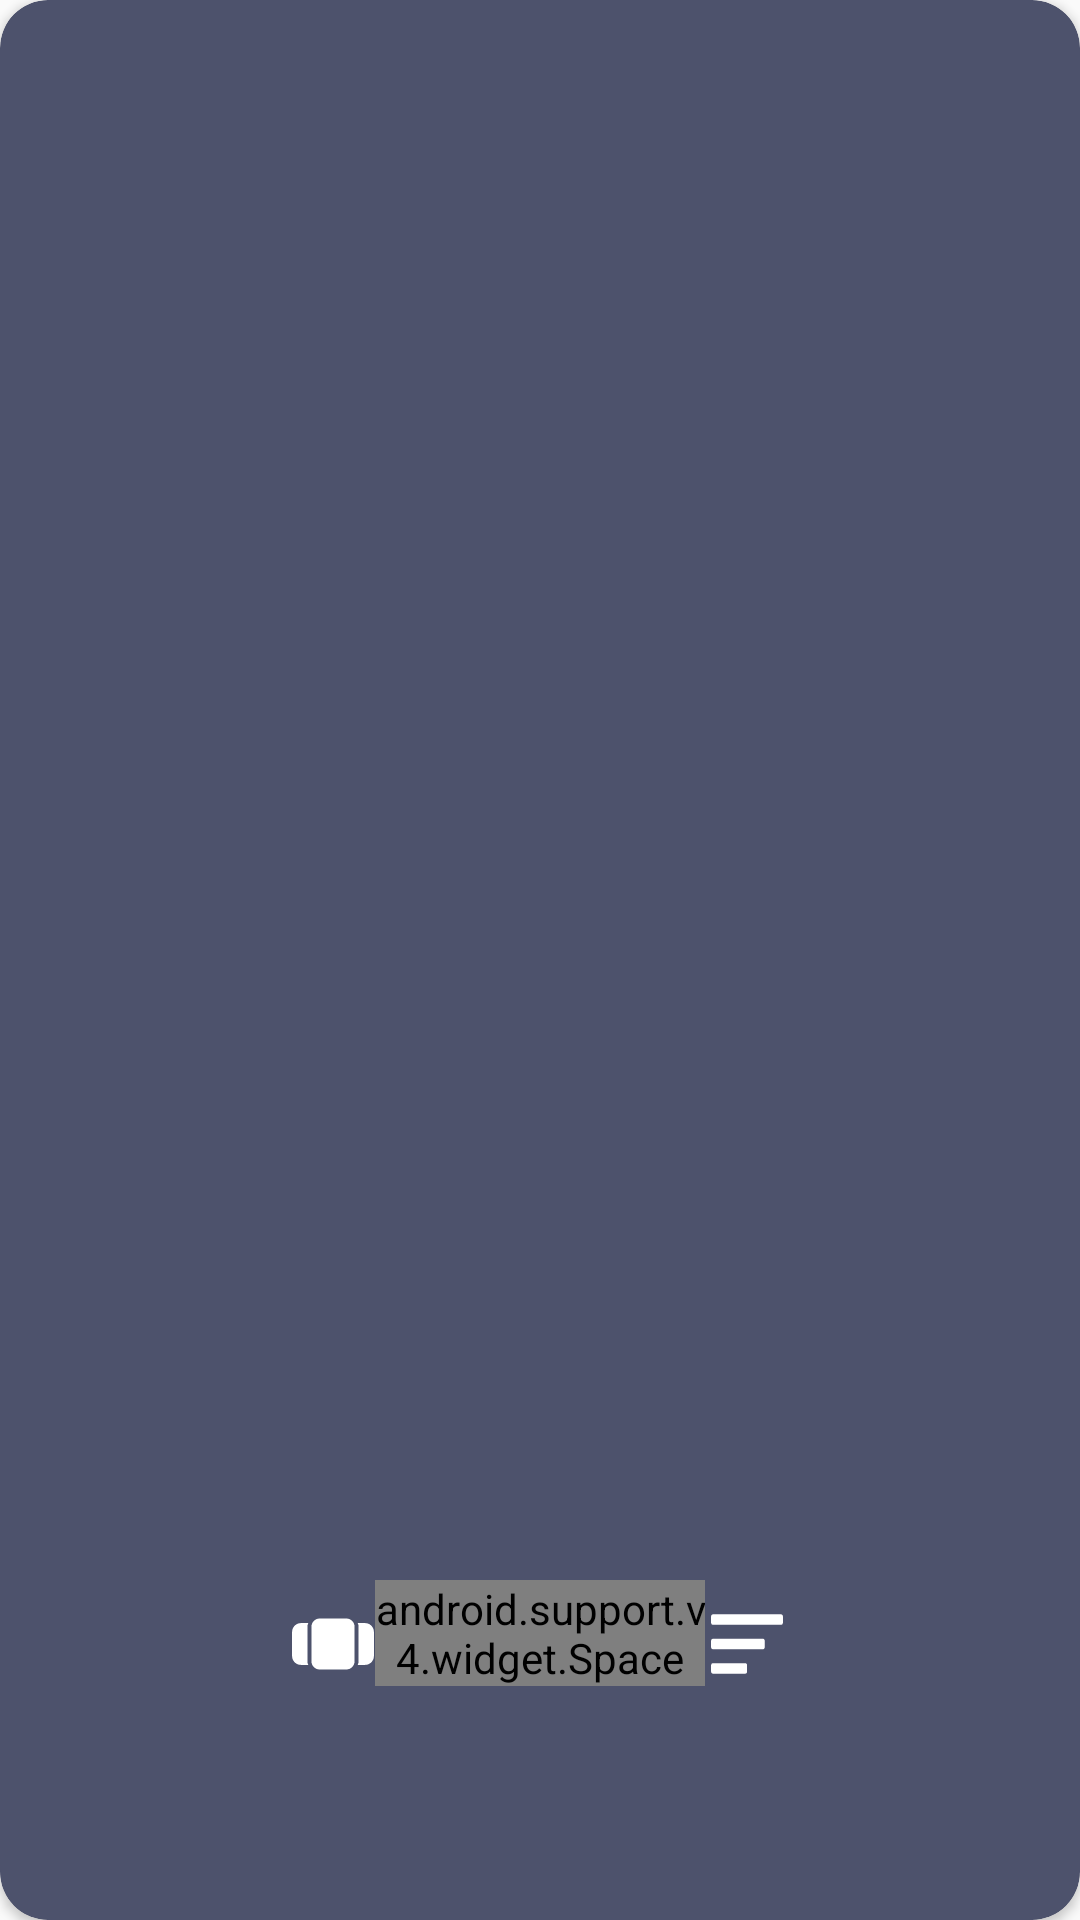

Icon bounding boxes for this 1080w x 1920h phone screenshot, format (x1, y1, x2, y2):
feed cards: (292, 1618, 374, 1670)
